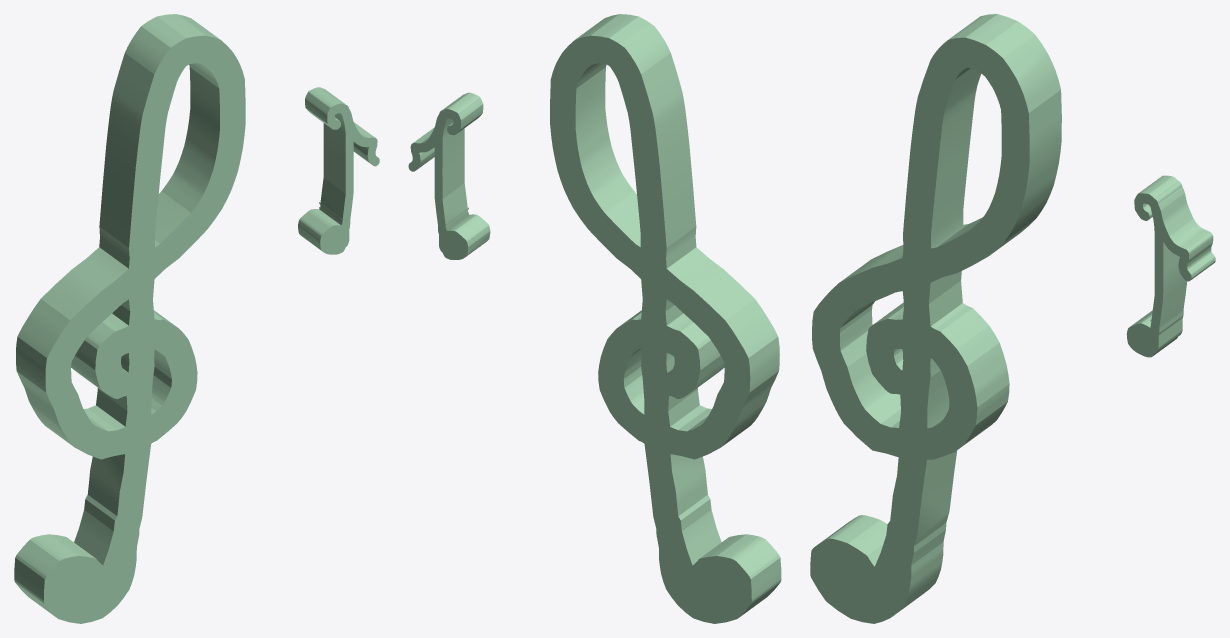
The model's file is chiavedisol.gltf.
3 renders of one model, left to right at view 1: azimuth 30°, elevation 25°; view 2: azimuth 150°, elevation 25°; view 3: azimuth 330°, elevation 25°, orthographic. The views are drawn at different scales.
Parts seen in each view (by area): view 1: group_0_undefined; view 2: group_0_undefined; view 3: group_0_undefined.
Boxes of the visible parts, x1,y1,x2,y2 form: group_0_undefined: [14, 14, 379, 623]; group_0_undefined: [408, 14, 781, 623]; group_0_undefined: [810, 14, 1215, 623].
Bounding box in the file's own units: 0.2676 × 0.4175 × 0.04.
